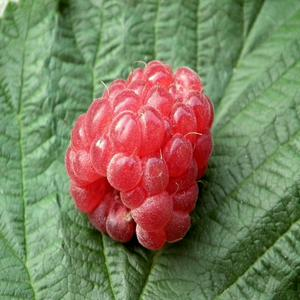raspb: (31, 64, 265, 251)
